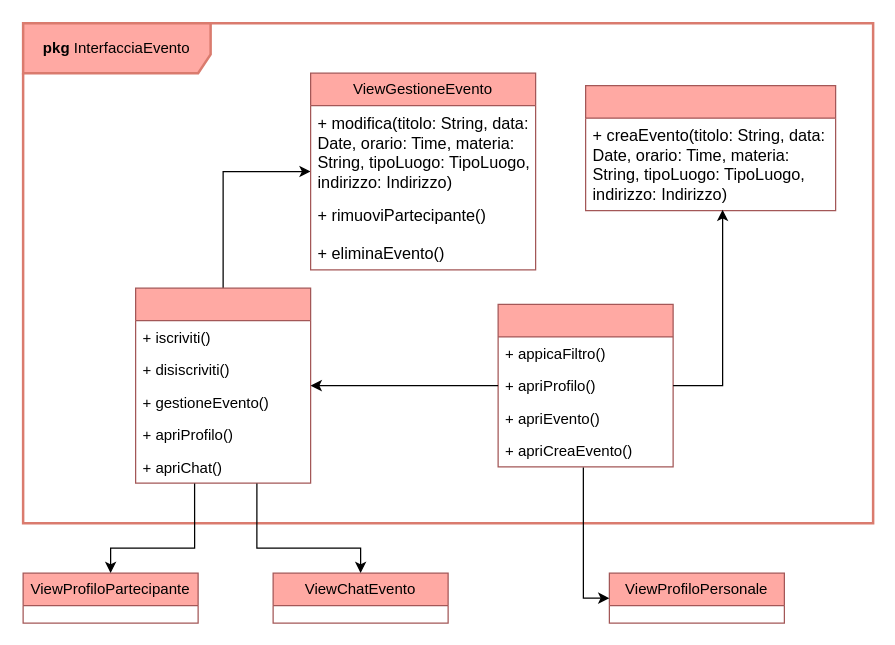
The diagram is 895 pixels wide and 645 high, and some of its shapes have lost their labels. Here are the shapes that lost their labels. From the top down, the box of each, then its label:
(584, 84, 836, 211): ViewCreazioneEvento
(134, 287, 311, 483): ViewDettaglioEvento
(497, 303, 673, 467): HomeBacheca
